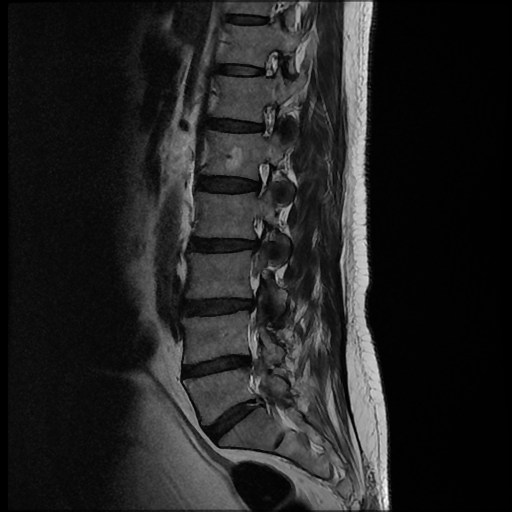RFS0: (241, 151, 283, 205)
